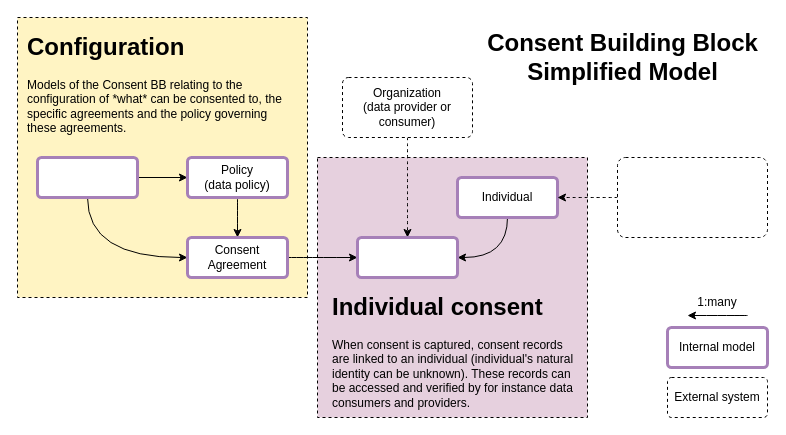
This 786x435 diagram has some shape labels left out. Here are the shapes that lost their labels. From the top down, the box of each, then its label:
(36, 156, 138, 198): Organization (data controller)
(616, 156, 768, 238): External Registration (functional ID or foundational ID)
(356, 236, 458, 278): Consent Record
